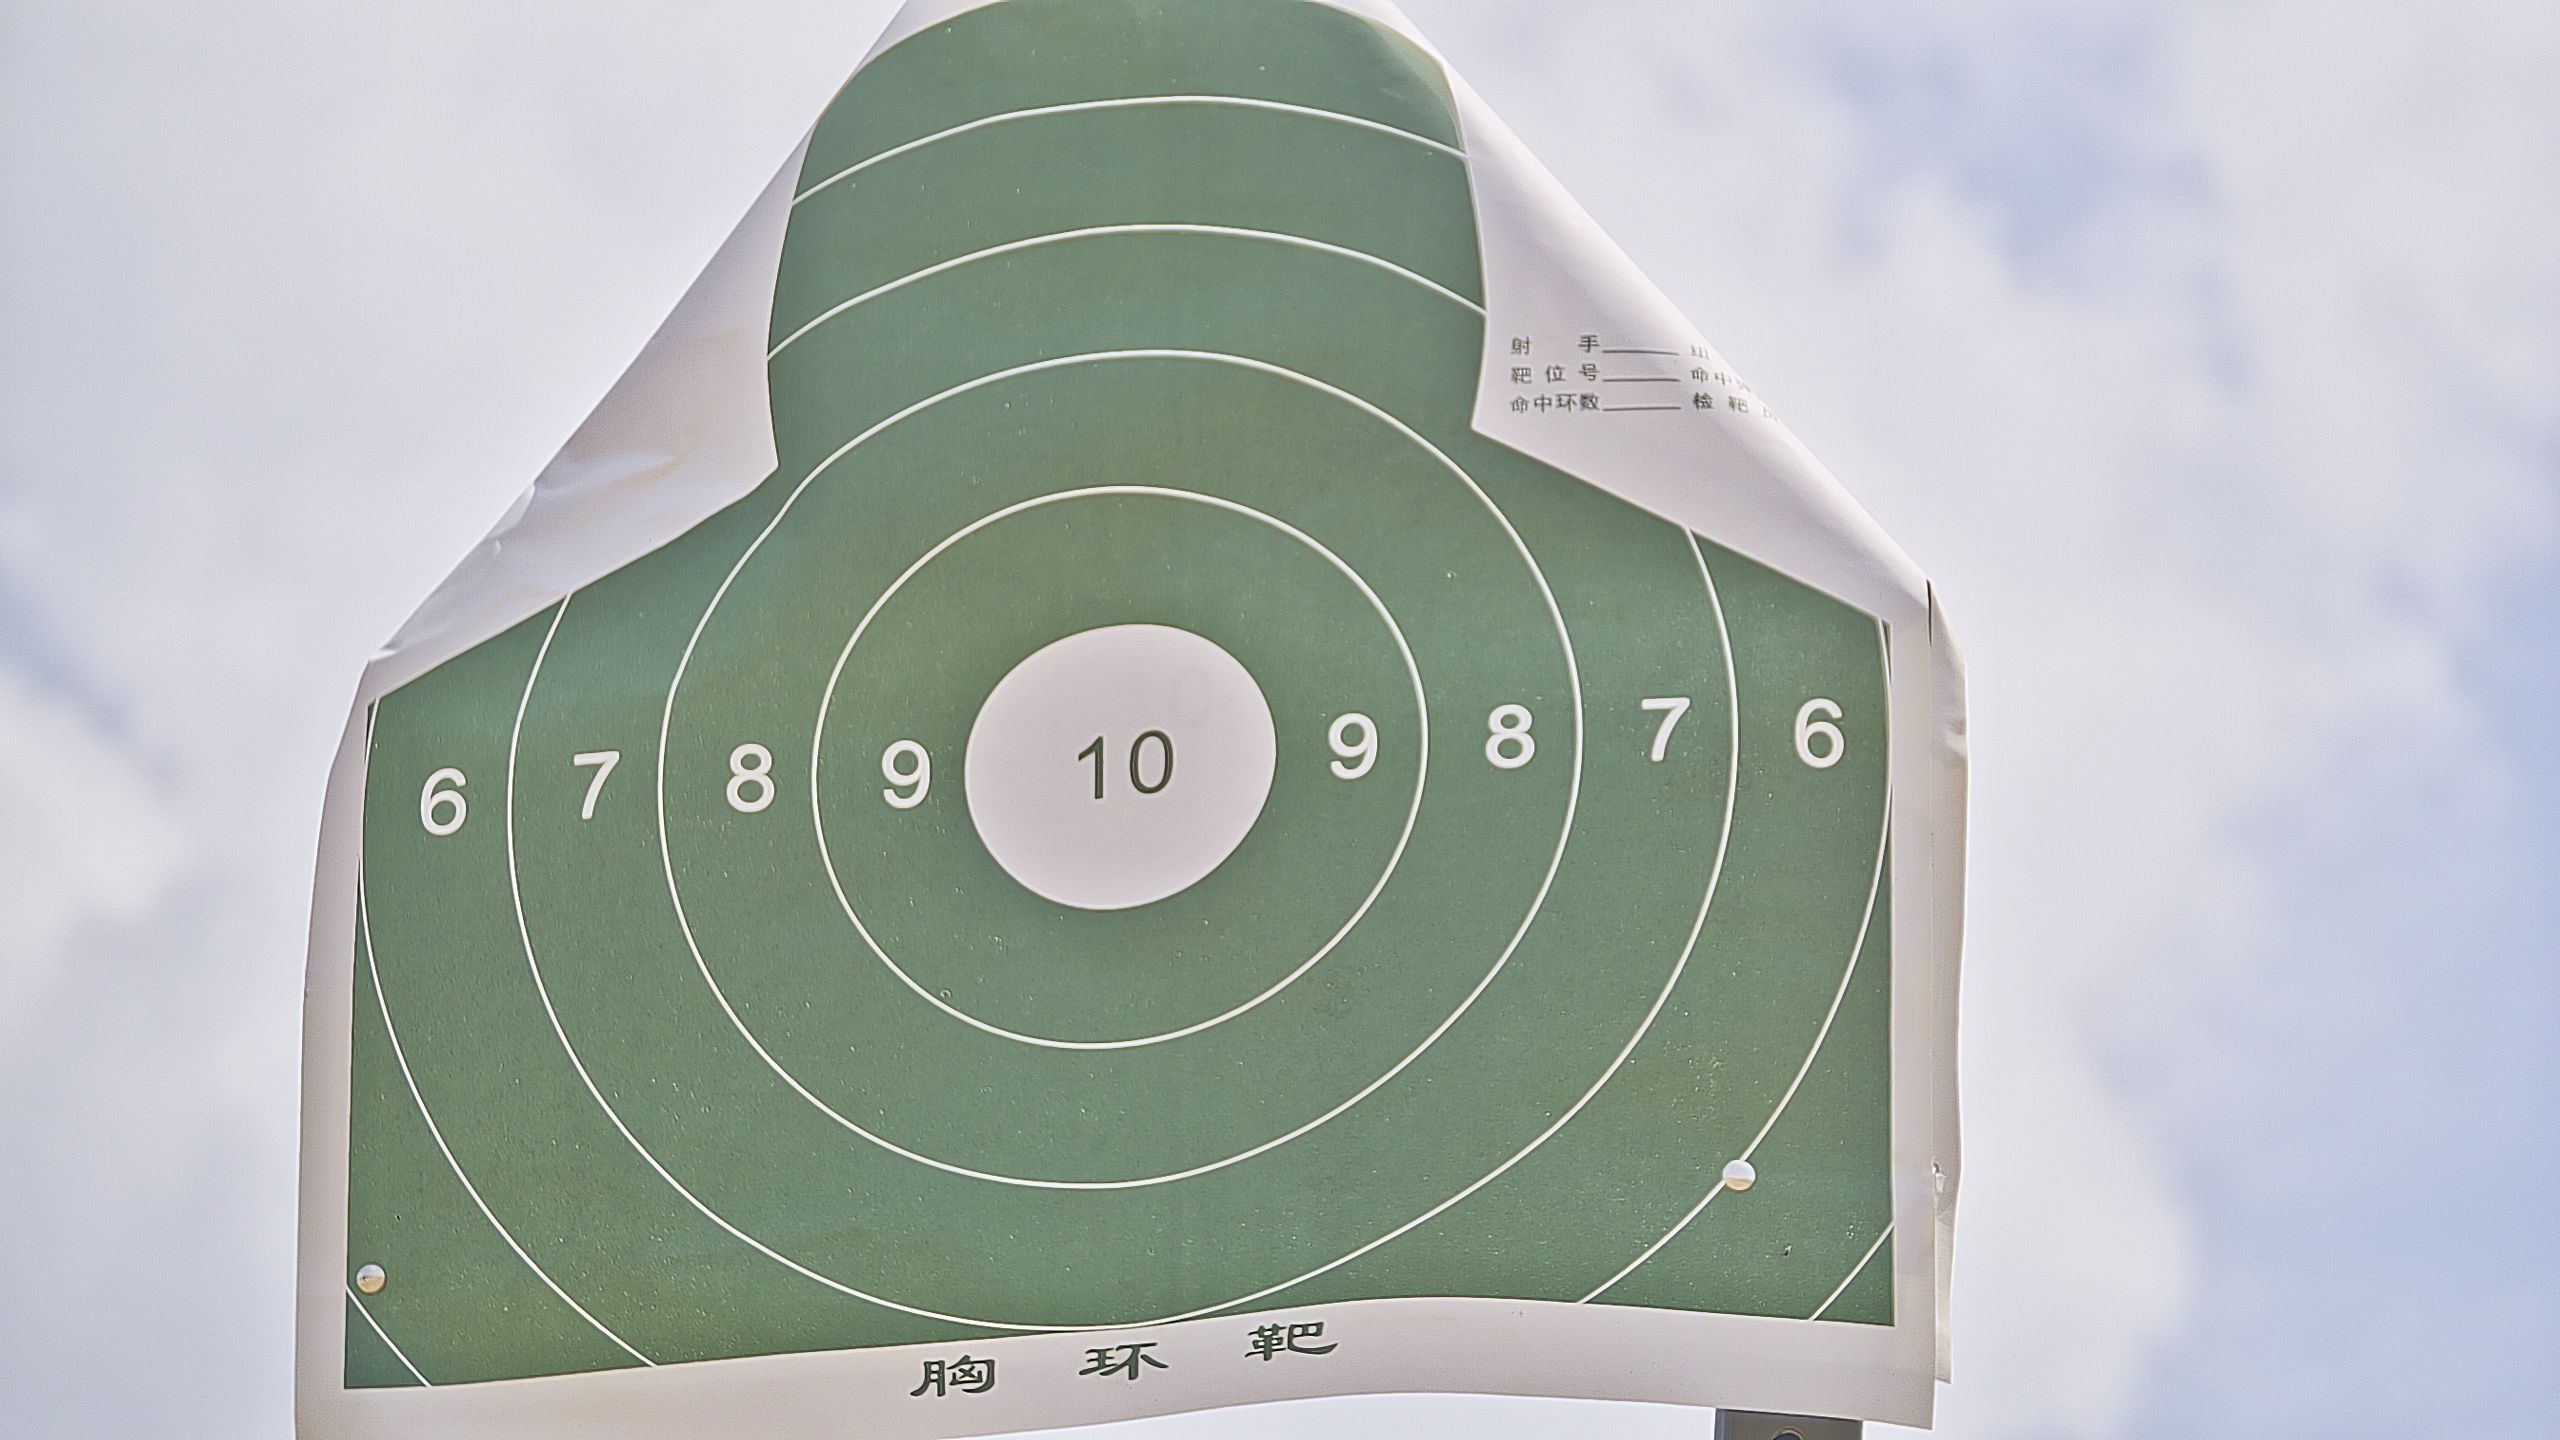kernel: (1116, 767, 1120, 772)
target: (345, 7, 1897, 1394)
ten: (958, 617, 1282, 918)
